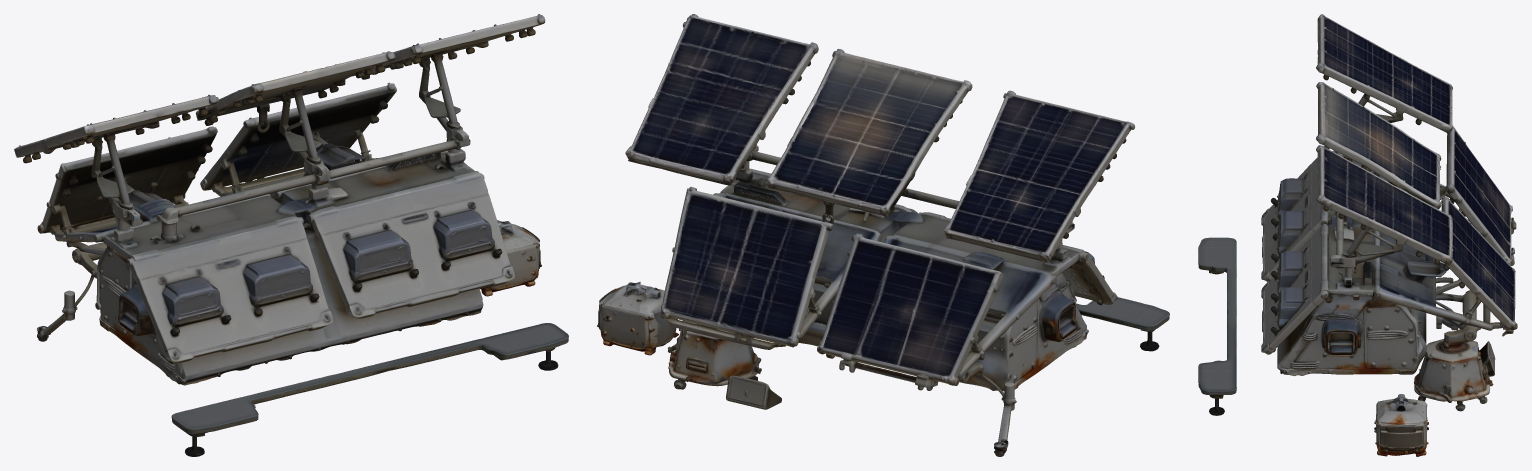
The model's file is mars_solar.glb.
3 views of the same model, side by side, from view 1: azimuth 30°, elevation 25°; view 2: azimuth 150°, elevation 25°; view 3: azimuth 270°, elevation 25° (orthographic). The views are drawn at different scales.
Visible parts, largest first — view 1: tripo_node_bc7c9ffd-04be-4147-8a73-1b0587d2a1a0; view 2: tripo_node_bc7c9ffd-04be-4147-8a73-1b0587d2a1a0; view 3: tripo_node_bc7c9ffd-04be-4147-8a73-1b0587d2a1a0.
Part boxes in pixels (left/top/right/bottom): tripo_node_bc7c9ffd-04be-4147-8a73-1b0587d2a1a0: left=14, top=14, right=568, bottom=456; tripo_node_bc7c9ffd-04be-4147-8a73-1b0587d2a1a0: left=597, top=14, right=1169, bottom=456; tripo_node_bc7c9ffd-04be-4147-8a73-1b0587d2a1a0: left=1198, top=14, right=1517, bottom=456.
Size of the model in its own units: 0.9818 by 0.5722 by 0.666.
1 material, 1 textured.
